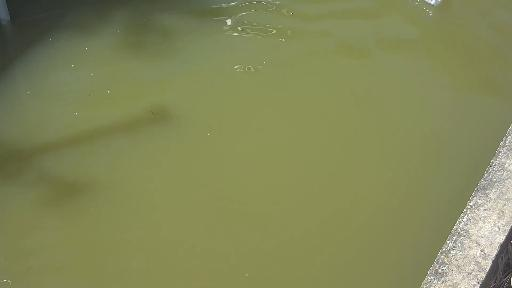plastic: (410, 0, 443, 16)
